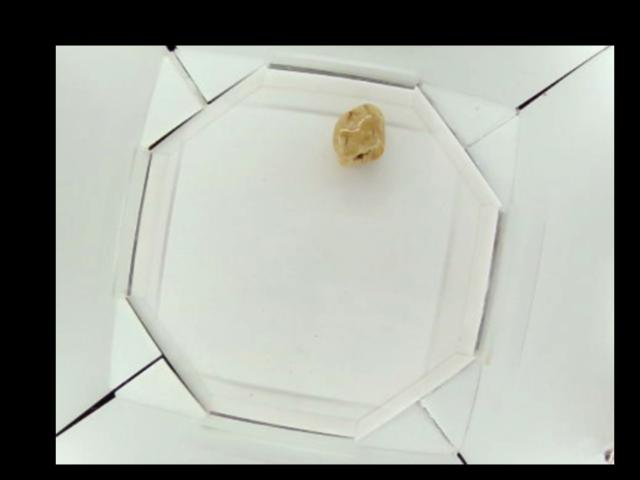Pebble: (333, 104, 385, 169)
